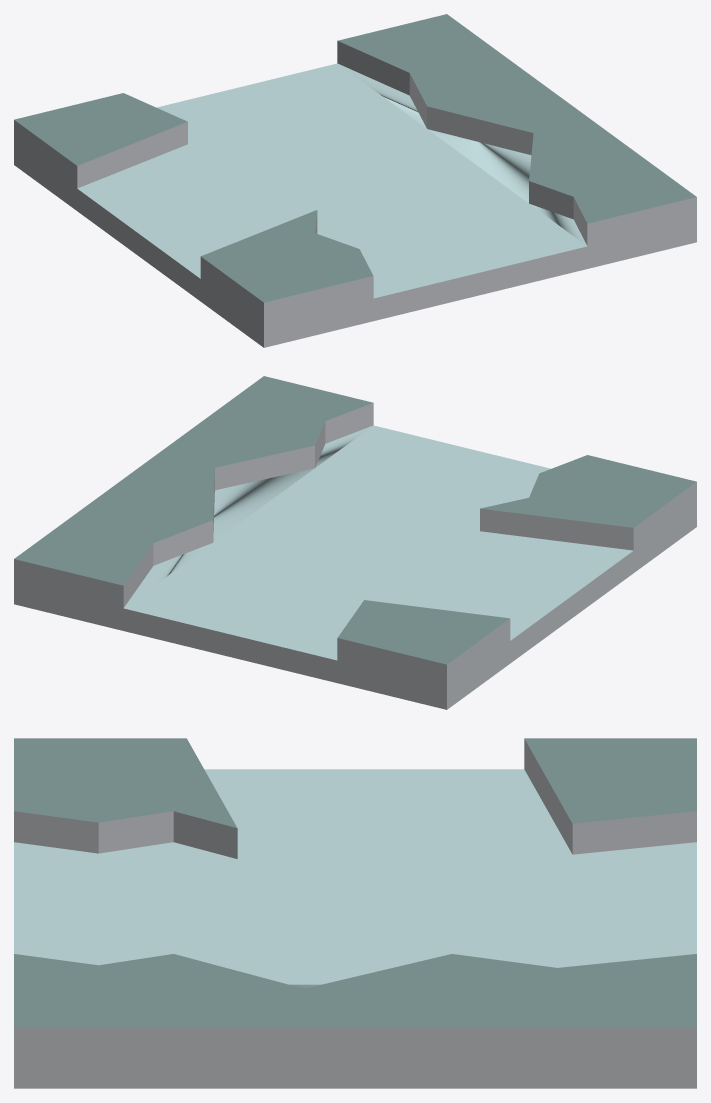
The model's file is Nature River 2.fbx.
3 renders of one model, top to bottom at view 1: azimuth 30°, elevation 25°; view 2: azimuth 150°, elevation 25°; view 3: azimuth 270°, elevation 25°, orthographic. The views are drawn at different scales.
Parts seen in each view (by area): view 1: Nature River 2; view 2: Nature River 2; view 3: Nature River 2.
Part boxes in pixels (x1=…): Nature River 2: x1=14, y1=14, x2=696, y2=347; Nature River 2: x1=14, y1=376, x2=696, y2=709; Nature River 2: x1=14, y1=738, x2=696, y2=1088.
Size of the model in its own units: 3 by 0.3 by 3.
